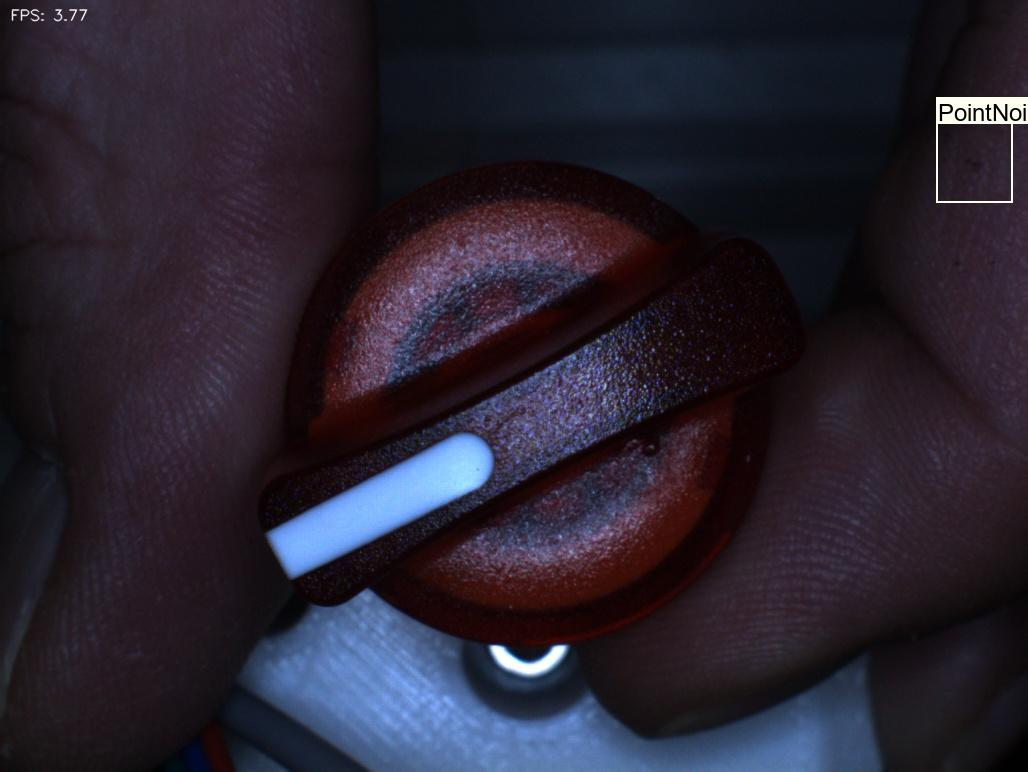Choc: (616, 409, 697, 486)
